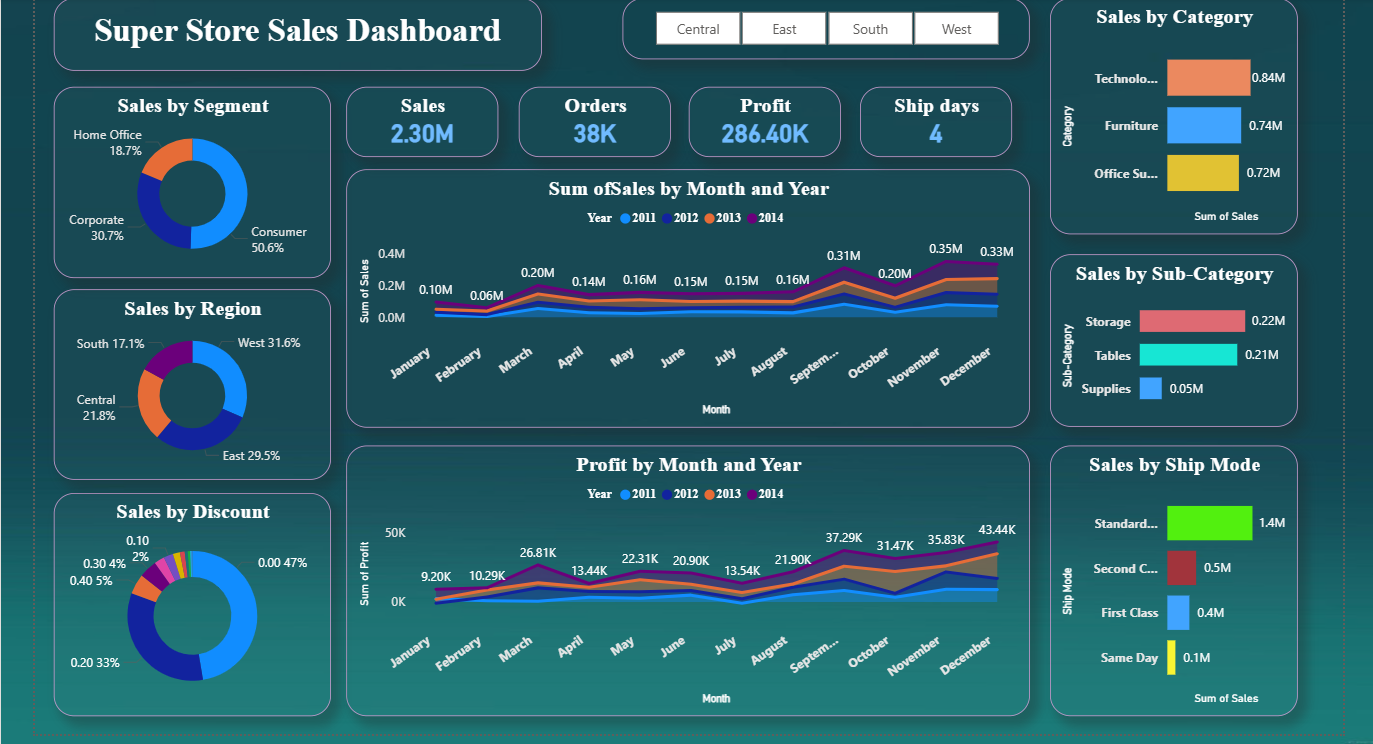

The page's visual inventory and layout, read from the dashboard file:
{"tool":"powerbi","page":{"name":"Page 1","canvas":[1280,720],"ordinal":0},"visuals":[{"type":"clusteredBarChart","title":"Sales by Sub-Category","fields":{"Y":["Sum(Orders.Sales)"],"Category":["Orders.Sub-Category"]},"box":[992.5,251.2,242.5,168.8],"z":0},{"type":"clusteredBarChart","title":"Sales by Category","fields":{"Category":["Orders.Category"],"Y":["Sum(Orders.Sales)"]},"box":[992.5,0,242.5,231.2],"z":1000},{"type":"clusteredBarChart","title":"Sales by Ship Mode","fields":{"Category":["Orders.Ship Mode"],"Y":["Sum(Orders.Sales)"]},"box":[992.5,437.5,242.5,265],"z":2000},{"type":"stackedAreaChart","title":"Sum ofSales by Month and Year","fields":{"Y":["Sum(Orders.Sales)"],"Category":["Orders.Order Date.Variation.Date Hierarchy.Month"],"Series":["Orders.Order Date.Variation.Date Hierarchy.Year"]},"box":[305,167.5,668.8,252.5],"z":3000},{"type":"stackedAreaChart","title":"Profit by Month and Year","fields":{"Category":["Orders.Order Date.Variation.Date Hierarchy.Month"],"Series":["Orders.Order Date.Variation.Date Hierarchy.Year"],"Y":["Sum(Orders.Profit)"]},"box":[305,437.5,668.8,265],"z":4000},{"type":"donutChart","title":"Sales by Segment","fields":{"Category":["Orders.Segment"],"Y":["Sum(Orders.Sales)"]},"box":[18.8,86.2,271.2,187.5],"z":5000},{"type":"donutChart","title":"Sales by Discount","fields":{"Y":["Sum(Orders.Sales)"],"Category":["Orders.Discount"]},"box":[18.8,483.8,271.2,218.8],"z":6000},{"type":"slicer","fields":{"Values":["Orders.Region"]},"box":[575,0,398.8,60],"z":7000},{"type":"textbox","box":[18.8,0,477.5,71.2],"z":8000},{"type":"card","title":"Sales","fields":{"Values":["Sum(Orders.Sales)"]},"box":[305,86.2,148.8,68.8],"z":9000},{"type":"card","title":"Orders","fields":{"Values":["Sum(Orders.Quantity)"]},"box":[473.8,86.2,148.8,68.8],"z":10000},{"type":"card","title":"Profit","fields":{"Values":["Sum(Orders.Profit)"]},"box":[640,86.2,148.8,68.8],"z":11000},{"type":"card","title":"Ship days","fields":{"Values":["Avg(Orders.AvgDelivery)"]},"box":[807.5,86.2,148.8,68.8],"z":12000},{"type":"donutChart","title":"Sales by Region","fields":{"Category":["Orders.Region"],"Y":["Sum(Orders.Sales)"]},"box":[18.8,285,271.2,186.2],"z":13000}]}

Visuals, with their boxes on the page's 1280x720 design canvas (x1, y1, x2, y2). These are canvas units, not pixel positions in the 1373x744 screenshot, which may show the page scaled, cropped or inside an application window:
"Sales by Sub-Category" clusteredBarChart: bbox=(992, 251, 1235, 420)
"Sales by Category" clusteredBarChart: bbox=(992, 0, 1235, 231)
"Sales by Ship Mode" clusteredBarChart: bbox=(992, 438, 1235, 702)
"Sum ofSales by Month and Year" stackedAreaChart: bbox=(305, 168, 974, 420)
"Profit by Month and Year" stackedAreaChart: bbox=(305, 438, 974, 702)
"Sales by Segment" donutChart: bbox=(19, 86, 290, 274)
"Sales by Discount" donutChart: bbox=(19, 484, 290, 703)
slicer - Orders.Region: bbox=(575, 0, 974, 60)
textbox: bbox=(19, 0, 496, 71)
"Sales" card: bbox=(305, 86, 454, 155)
"Orders" card: bbox=(474, 86, 623, 155)
"Profit" card: bbox=(640, 86, 789, 155)
"Ship days" card: bbox=(808, 86, 956, 155)
"Sales by Region" donutChart: bbox=(19, 285, 290, 471)
